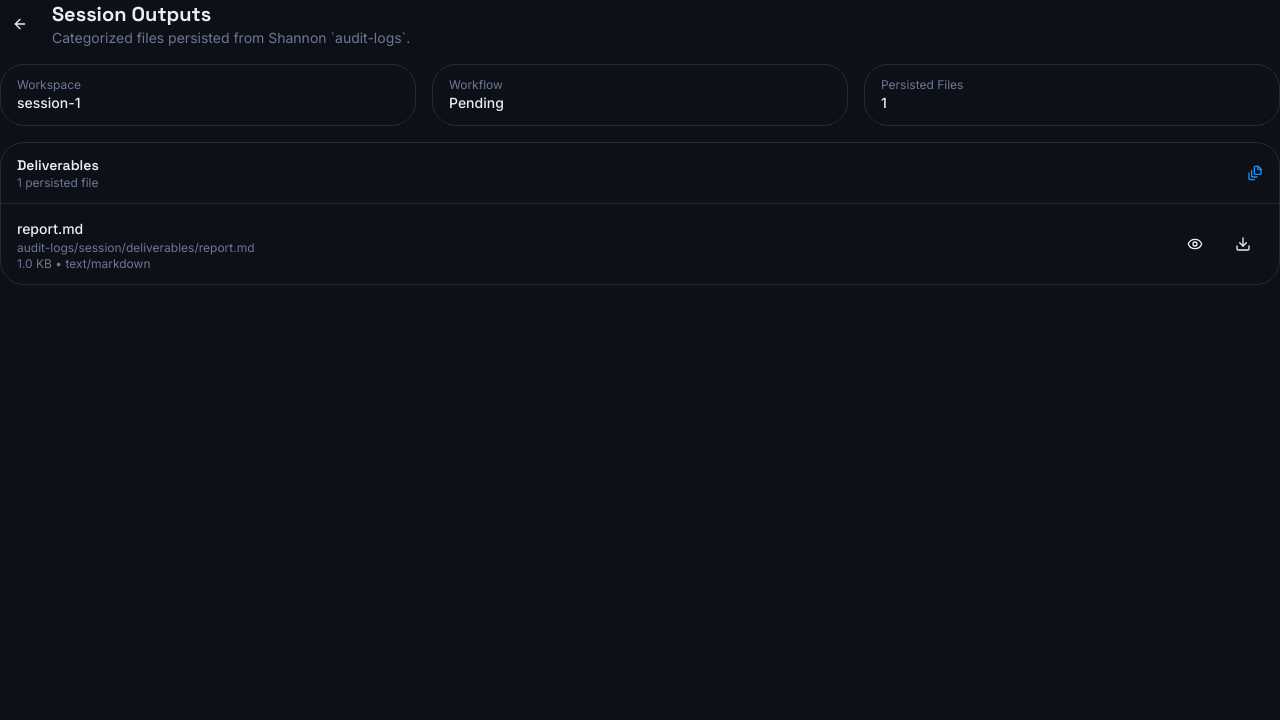
Test: SessionArtifactsPage › loads a text artifact inline through the existing artifact endpoint
Click the button "report.md".
click(50, 229)  # box x1=17 y1=219 x2=83 y2=239
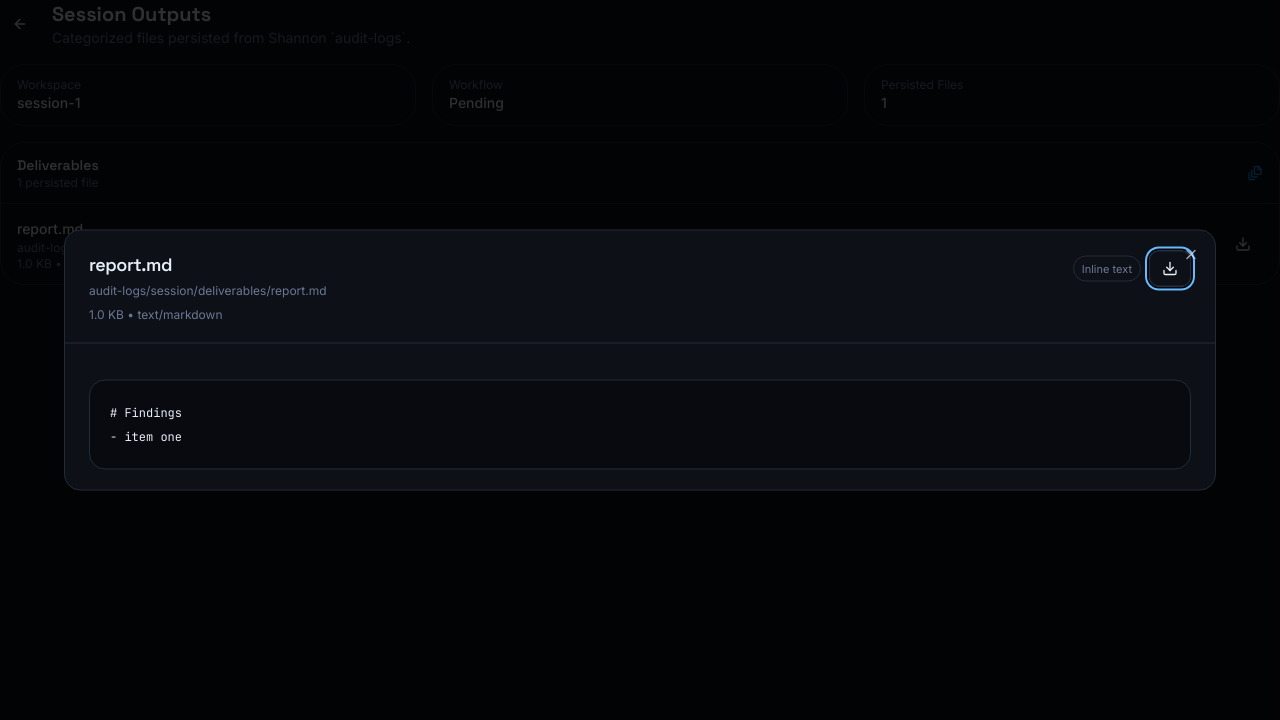
Check: the dialog is shown, box x1=64 y1=230 x2=1216 y2=490
Check: the text "Inline text" is shown, box x1=1073 y1=255 x2=1141 y2=282
Check: the heading "report.md" is shown, box x1=89 y1=252 x2=172 y2=276
